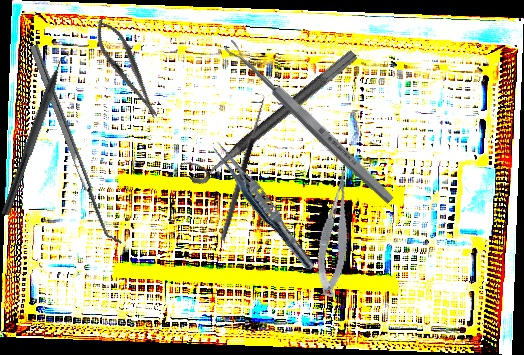Chopper: (0, 42, 80, 221)
Fixation Ring: (179, 35, 359, 190)
Hook Surgical: (212, 92, 269, 242)
Micro Scissor: (307, 167, 366, 299)
Needle Holder: (86, 13, 168, 125)
Spatula Surgical: (29, 41, 123, 250)
Surgical Spoon: (223, 38, 396, 206)
Tissue Forceps: (204, 136, 322, 275)
